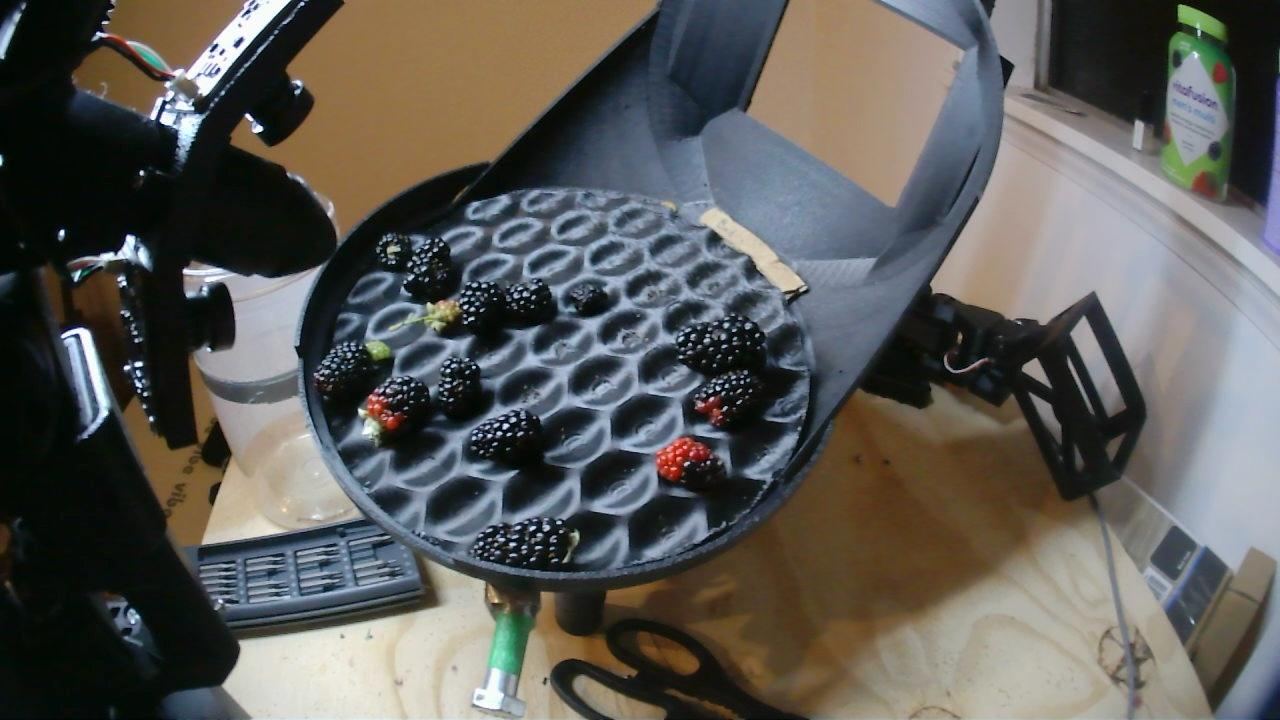berry: (472, 517, 574, 569), (675, 315, 764, 372), (359, 376, 429, 445), (693, 369, 765, 428), (312, 343, 380, 405), (465, 411, 540, 463), (656, 437, 726, 489), (403, 238, 454, 300), (437, 357, 482, 419), (458, 281, 506, 335), (506, 279, 554, 324), (376, 233, 412, 270), (567, 283, 608, 315), (423, 299, 461, 331), (364, 340, 391, 362)
